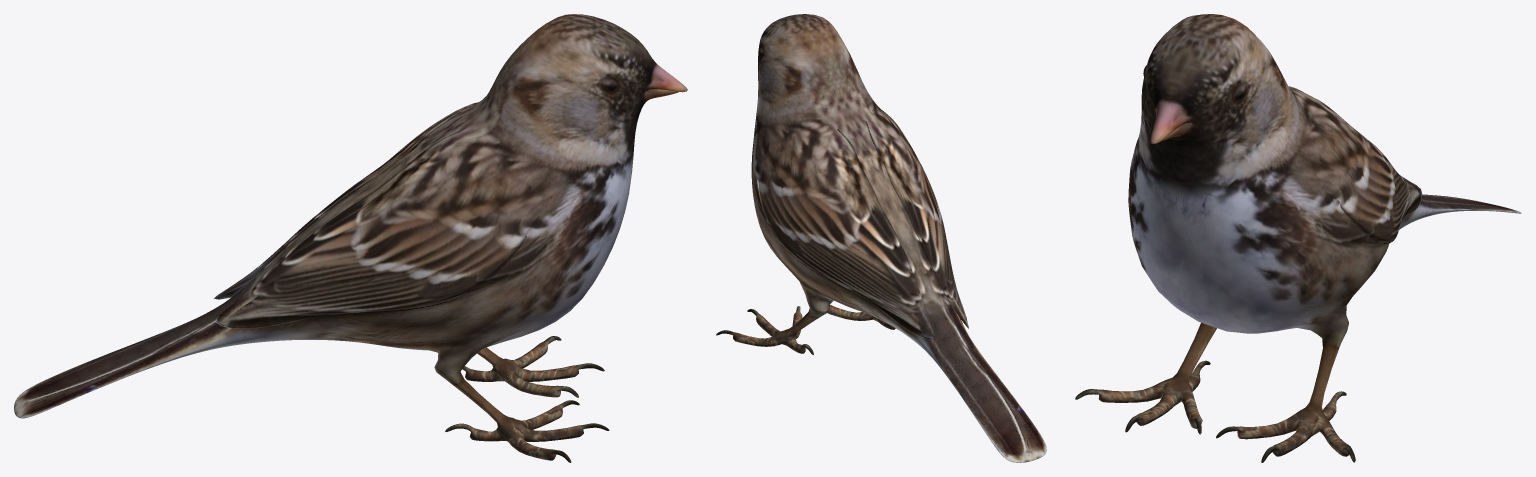
Rendered from sparrow.glb.
3 renders of one model, left to right at view 1: azimuth 30°, elevation 25°; view 2: azimuth 150°, elevation 25°; view 3: azimuth 270°, elevation 25°, orthographic. The views are drawn at different scales.
Visible parts, largest first — view 1: 麻雀措施.001; view 2: 麻雀措施.001; view 3: 麻雀措施.001.
Part boxes in pixels (x1,y1,x2,y2): 麻雀措施.001: [14, 14, 687, 462]; 麻雀措施.001: [716, 14, 1046, 462]; 麻雀措施.001: [1075, 14, 1521, 462].
Bounding box in the file's own units: 5.21 × 3.73 × 3.55.
1 material, 1 textured.
